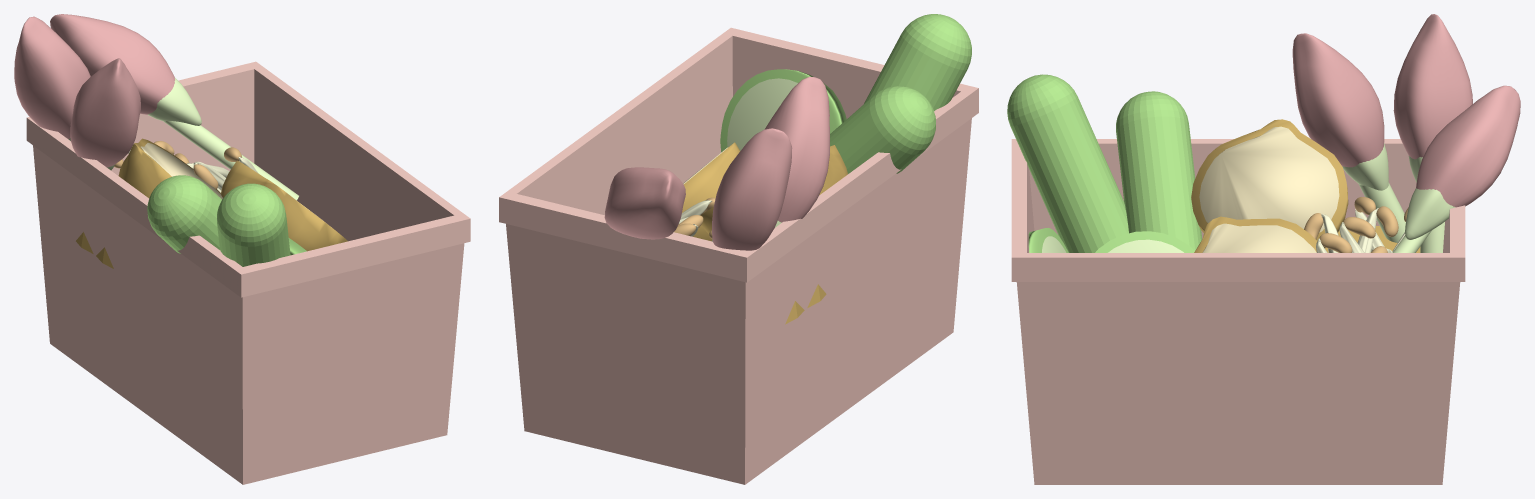
The model's file is vegebox2.fbx.
3 renders of one model, left to right at view 1: azimuth 30°, elevation 25°; view 2: azimuth 150°, elevation 25°; view 3: azimuth 270°, elevation 25°, orthographic. The views are drawn at different scales.
Parts seen in each view (by area): view 1: Cube.011, Cube.013, Sphere.055, Sphere.049, Sphere.047, Sphere.034, Sphere.018, Sphere.037, Sphere.035, Cylinder.050, Sphere.048, Sphere.036; view 2: Cube.011, Cube.013, Sphere.055, Sphere.018, Sphere.034, Sphere.049, Sphere.047, Cylinder.049, Sphere.037, Cylinder.048, Sphere.035; view 3: Cube.011, Cube.013, Sphere.034, Sphere.036, Sphere.018, Sphere.049, Sphere.047, Sphere.055, Sphere.038, Sphere.035, Sphere.048, Sphere.050 (+4 smaller).
Boxes of the visible parts, x1,y1,x2,y2 form: Cube.011: [33, 70, 464, 484]; Cube.013: [26, 61, 470, 297]; Sphere.055: [14, 16, 90, 138]; Sphere.049: [70, 58, 140, 167]; Sphere.047: [50, 14, 174, 114]; Sphere.034: [217, 183, 290, 266]; Sphere.018: [147, 175, 221, 253]; Sphere.037: [221, 160, 347, 251]; Sphere.035: [118, 138, 220, 198]; Cylinder.050: [163, 121, 298, 200]; Sphere.048: [148, 78, 201, 125]; Sphere.036: [141, 143, 222, 199]; Cube.011: [506, 37, 971, 484]; Cube.013: [499, 27, 978, 282]; Sphere.055: [712, 128, 792, 250]; Sphere.018: [830, 86, 935, 173]; Sphere.034: [864, 14, 971, 110]; Sphere.049: [765, 76, 829, 222]; Sphere.047: [604, 167, 685, 239]; Cylinder.049: [727, 78, 797, 150]; Sphere.037: [682, 142, 740, 241]; Cylinder.048: [720, 69, 846, 152]; Sphere.035: [701, 145, 847, 234]; Cube.011: [1016, 145, 1460, 484]; Cube.013: [1011, 139, 1465, 281]; Sphere.034: [1007, 74, 1128, 252]; Sphere.036: [1199, 126, 1339, 232]; Sphere.018: [1116, 91, 1202, 250]; Sphere.049: [1292, 33, 1384, 167]; Sphere.047: [1416, 85, 1520, 207]; Sphere.055: [1393, 14, 1472, 159]; Sphere.038: [1202, 223, 1316, 252]; Sphere.035: [1191, 119, 1348, 248]; Sphere.048: [1405, 188, 1455, 239]; Sphere.050: [1342, 143, 1388, 190].
Bounding box in the file's own units: 226 × 285 × 375.
